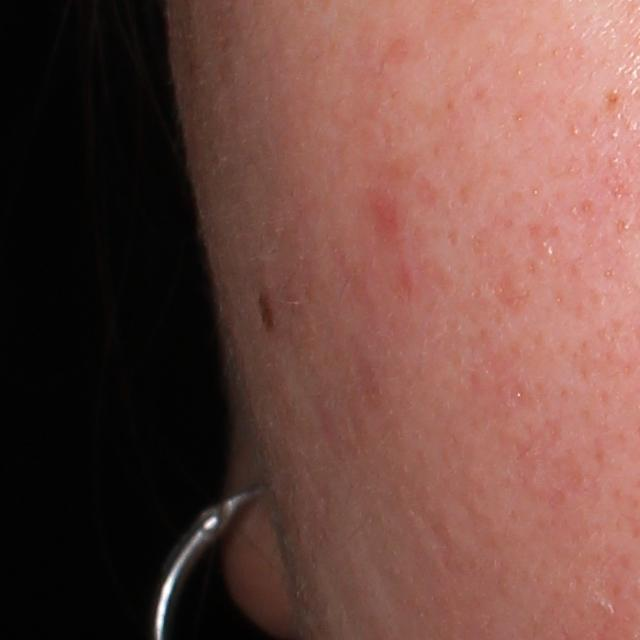nevus: (257, 289, 276, 331)
